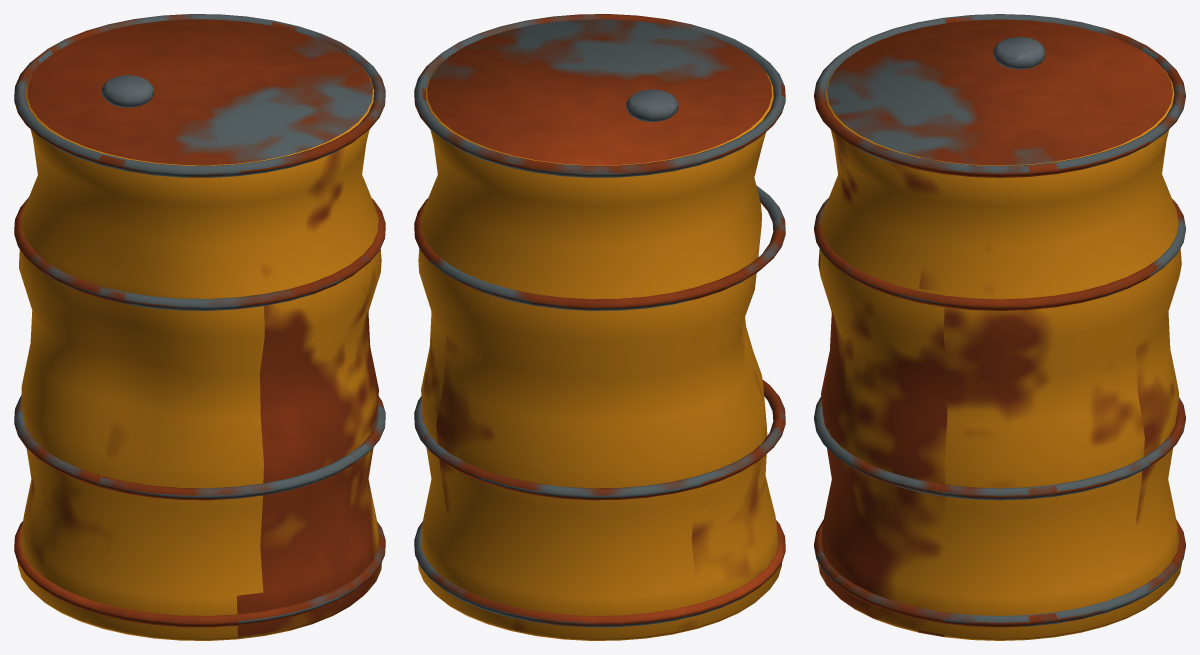
File: drum-17.glb
3 views of the same model, side by side, from view 1: azimuth 30°, elevation 25°; view 2: azimuth 150°, elevation 25°; view 3: azimuth 270°, elevation 25° (orthographic).
Parts seen in each view (by area): view 1: drum-17; view 2: drum-17; view 3: drum-17.
Boxes of the visible parts, x1=… form: drum-17: x1=14, y1=14, x2=385, y2=640; drum-17: x1=414, y1=14, x2=785, y2=640; drum-17: x1=814, y1=14, x2=1185, y2=640.
Bounding box in the file's own units: 0.57 × 0.8275 × 0.57.
Materials: 3 (3 with a texture image).
